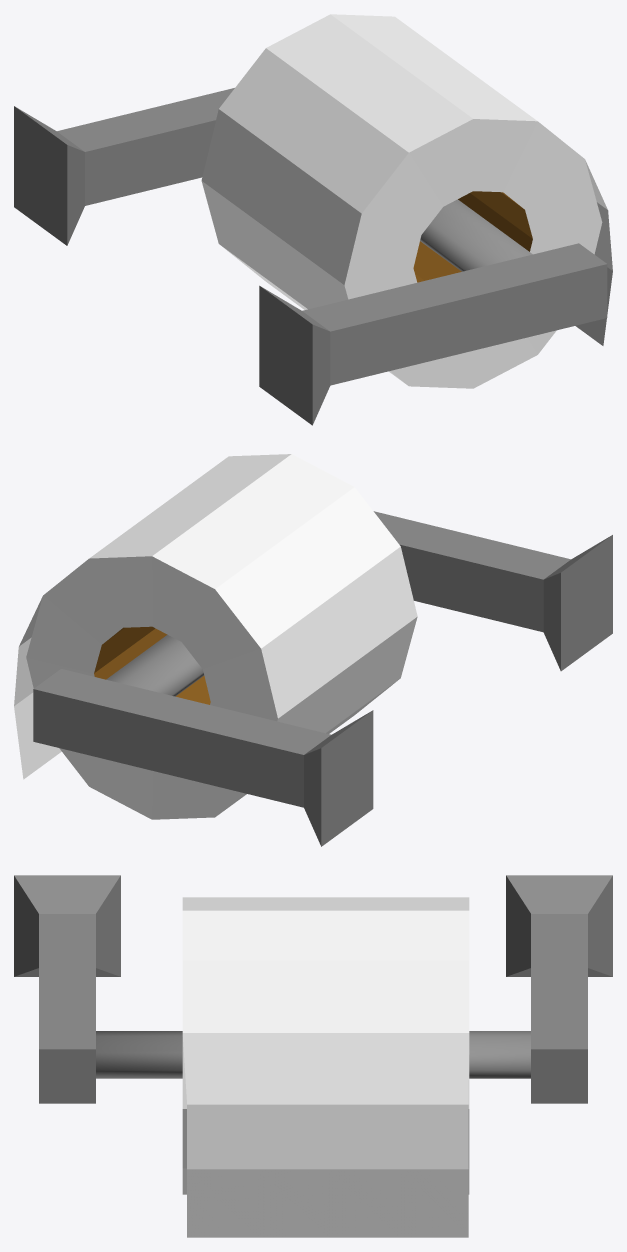
The model's file is ToilerPaper.fbx.
3 views of the same model, one above another, from view 1: azimuth 30°, elevation 25°; view 2: azimuth 150°, elevation 25°; view 3: azimuth 270°, elevation 25° (orthographic). The views are drawn at different scales.
Visible parts, largest first — view 1: ToiletPaperRoll, ToiletPaperHolder; view 2: ToiletPaperRoll, ToiletPaperHolder; view 3: ToiletPaperRoll, ToiletPaperHolder.
Part boxes in pixels (bbox=[...]): ToiletPaperRoll: bbox=[201, 14, 612, 388]; ToiletPaperHolder: bbox=[14, 88, 607, 425]; ToiletPaperRoll: bbox=[14, 454, 417, 819]; ToiletPaperHolder: bbox=[33, 511, 612, 846]; ToiletPaperRoll: bbox=[182, 897, 469, 1237]; ToiletPaperHolder: bbox=[14, 875, 612, 1103].
Bounding box in the file's own units: 300 × 200 × 401.
